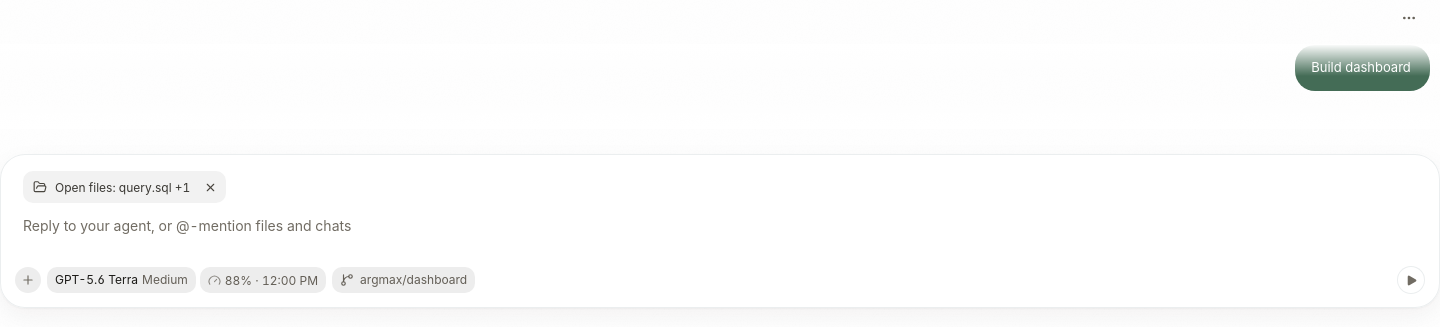
Test: SessionConversation open-file context › sends the plain prompt after the chip is dismissed
Click the button named "Don't attach open files" at (210, 187), box x1=198 y1=175 x2=222 y2=199
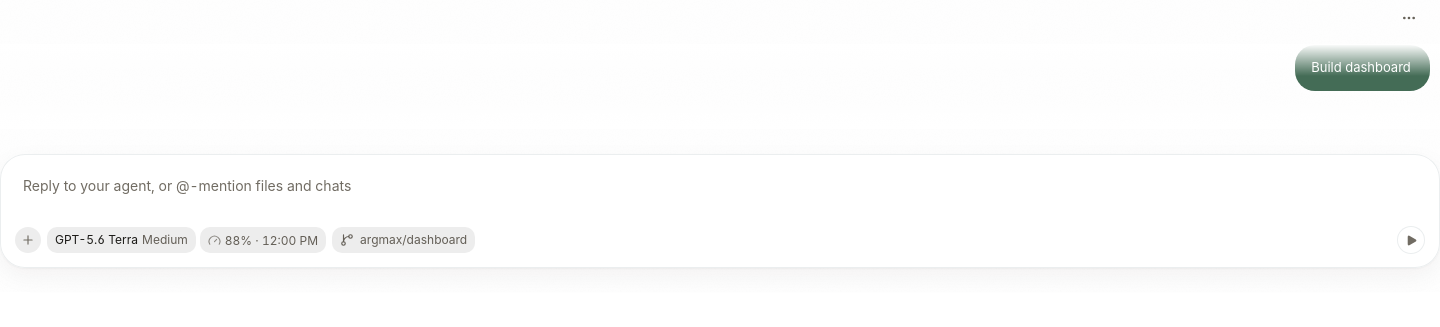
Type "explain this model" into the text box named "Chat prompt" at (720, 193), box x1=15 y1=167 x2=1425 y2=219
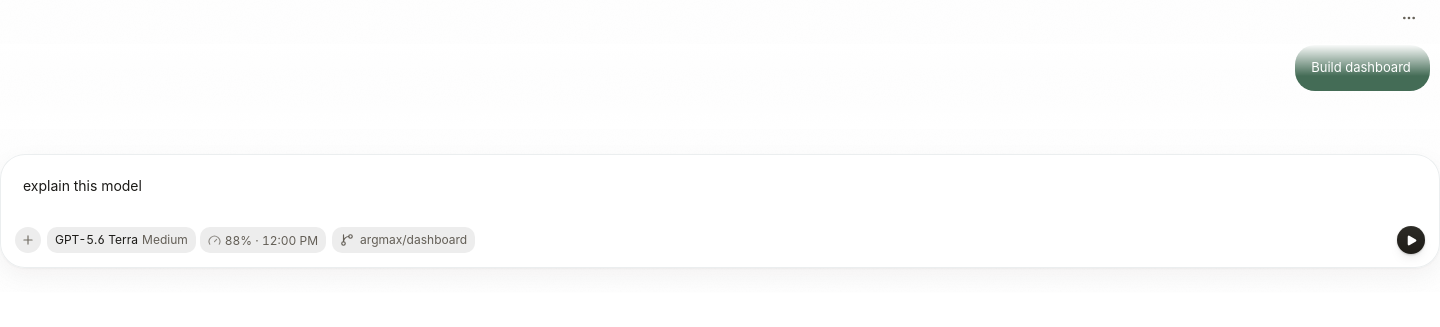
Press Enter in the text box named "Chat prompt", box x1=15 y1=167 x2=1425 y2=219
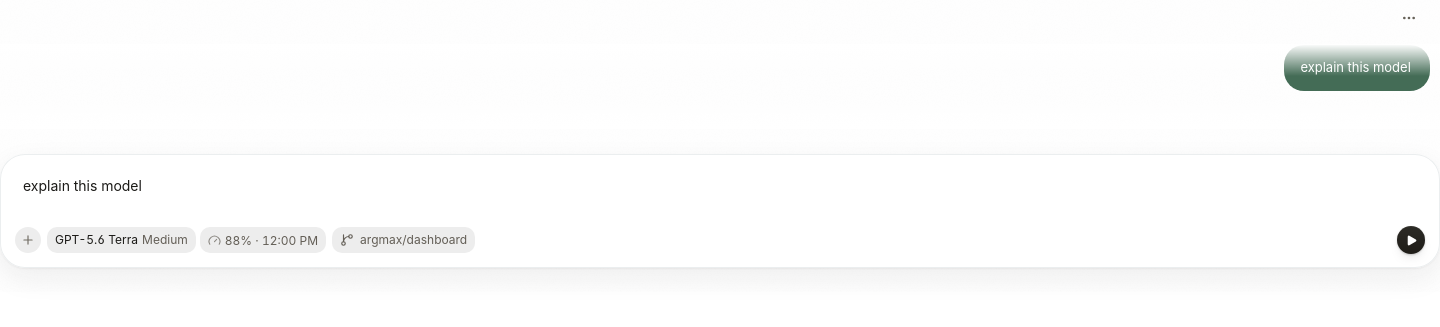
Expected: the text "explain this model" is shown, x1=1300 y1=57 x2=1411 y2=79
